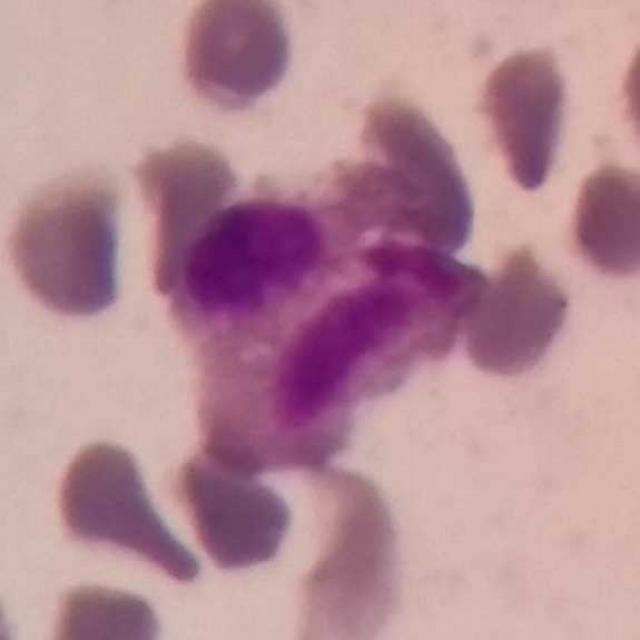Eosinophil: (164, 176, 483, 450)
